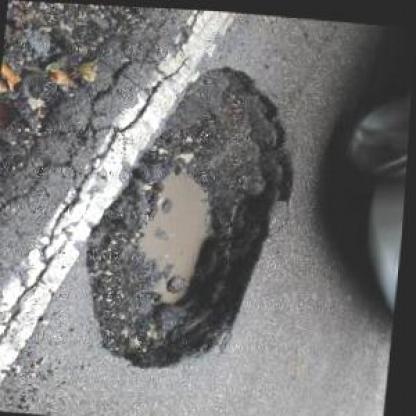pothole: (75, 51, 309, 379)
